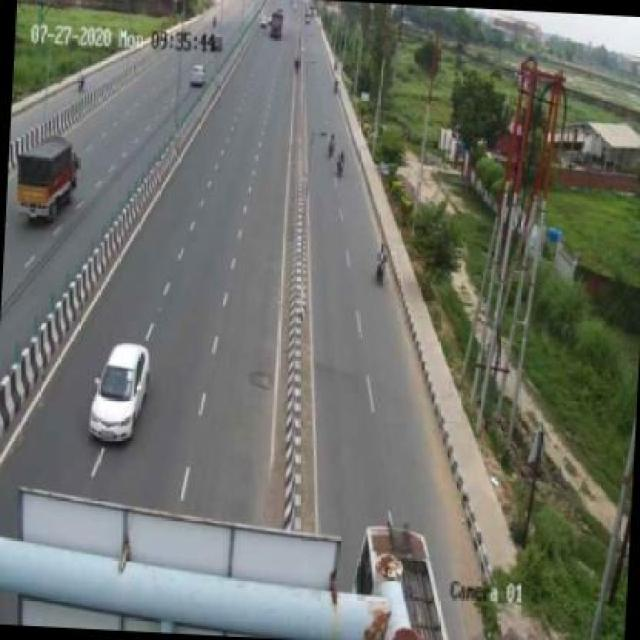car: (89, 340, 151, 445), (185, 60, 212, 88)
